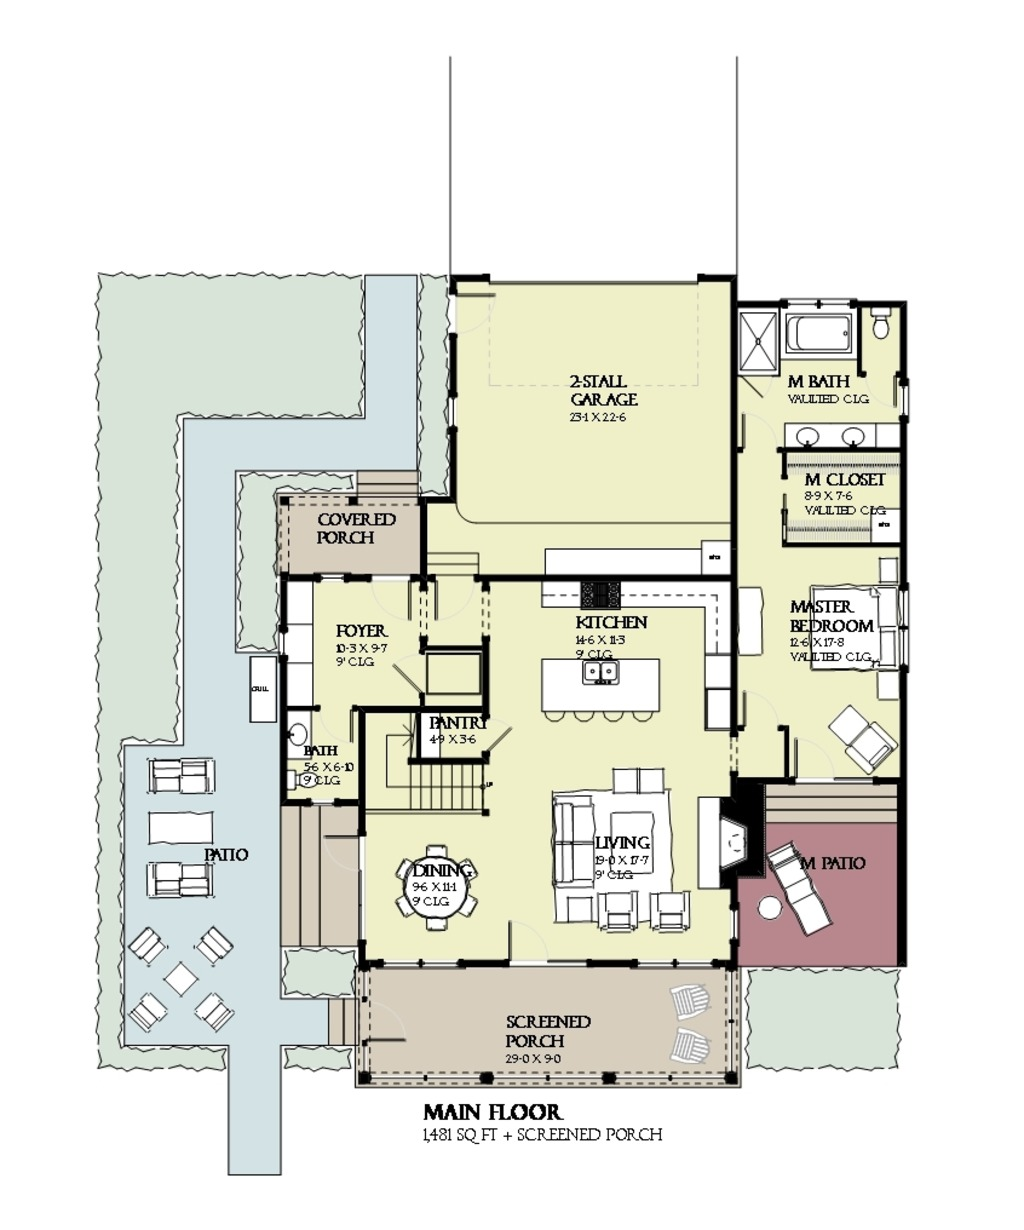kitchen_bar: (533, 655, 668, 728)
large_sofa: (546, 789, 599, 886), (140, 755, 219, 798), (146, 856, 215, 903)
stairs: (364, 761, 496, 821)
tub: (784, 307, 854, 359)
